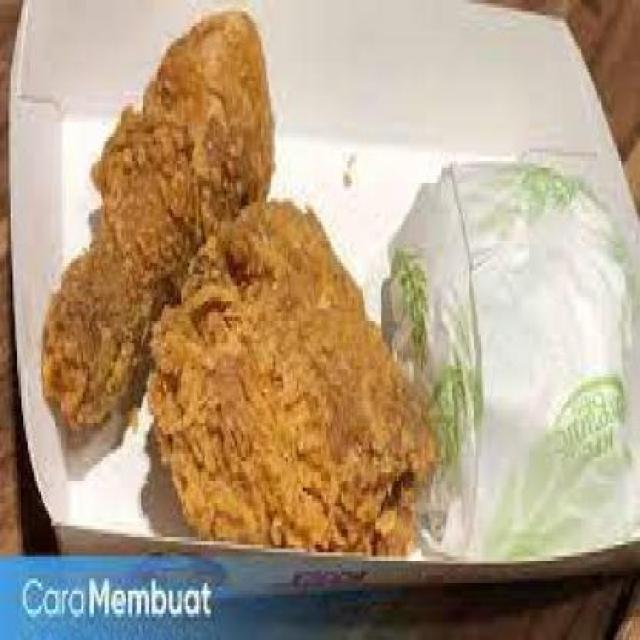Chicken -Fried Chicken-: (40, 11, 442, 560), (41, 8, 275, 433)
